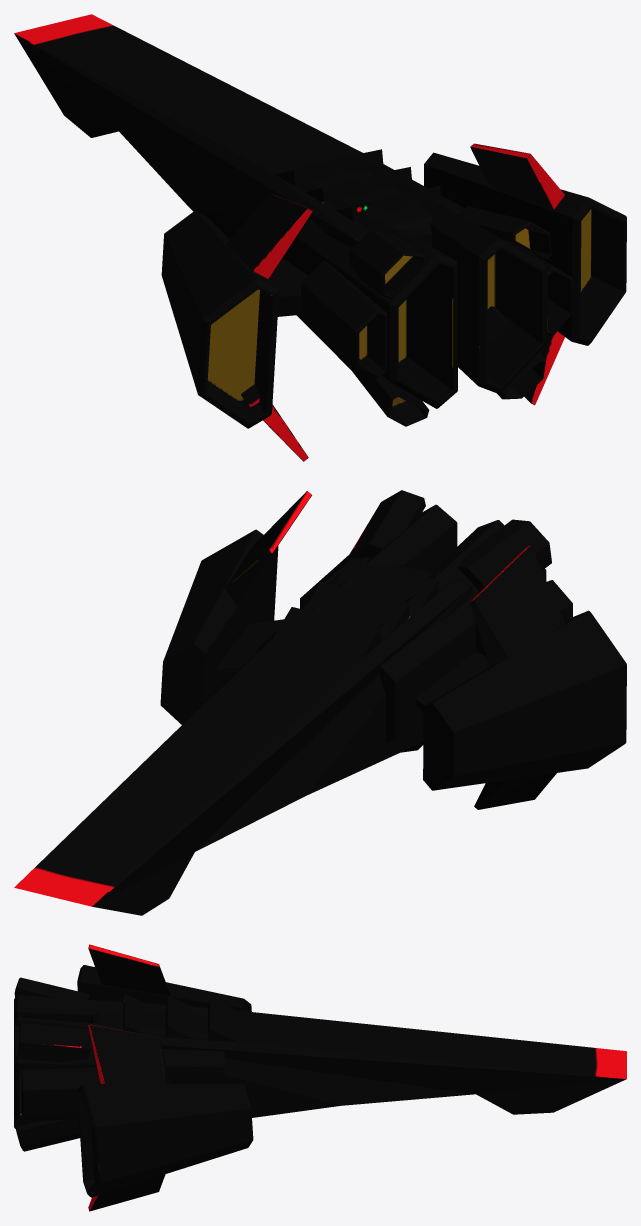
Rendered from sgs_02.obj.
3 renders of one model, top to bottom at view 1: azimuth 30°, elevation 25°; view 2: azimuth 150°, elevation 25°; view 3: azimuth 270°, elevation 25°, orthographic. The views are drawn at different scales.
Parts seen in each view (by area): view 1: sgs_ship; view 2: sgs_ship; view 3: sgs_ship.
Part boxes in pixels (box(x1,y1,x2,y2)): sgs_ship: box(14, 14, 626, 461); sgs_ship: box(14, 490, 626, 915); sgs_ship: box(14, 944, 626, 1211).
Size of the model in its own units: 6.05 by 3.41 by 10.2.
Materials: 1 (1 with a texture image).
